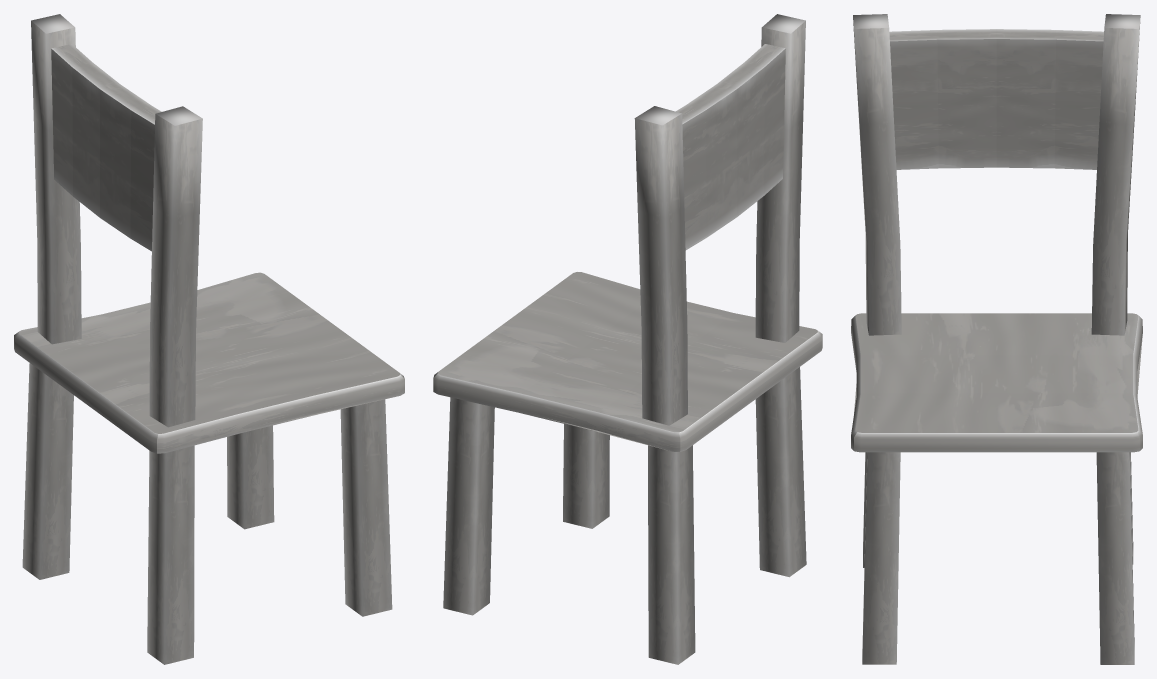
File: chair_w.fbx
3 views of the same model, side by side, from view 1: azimuth 30°, elevation 25°; view 2: azimuth 150°, elevation 25°; view 3: azimuth 270°, elevation 25° (orthographic).
Parts seen in each view (by area): view 1: Plane.001; view 2: Plane.001; view 3: Plane.001.
Boxes of the visible parts, box(x1,y1,x2,y2) form: Plane.001: box(14, 14, 404, 664); Plane.001: box(433, 14, 822, 664); Plane.001: box(851, 14, 1142, 664).
Bounding box in the file's own units: 64.87 × 133 × 64.87.
